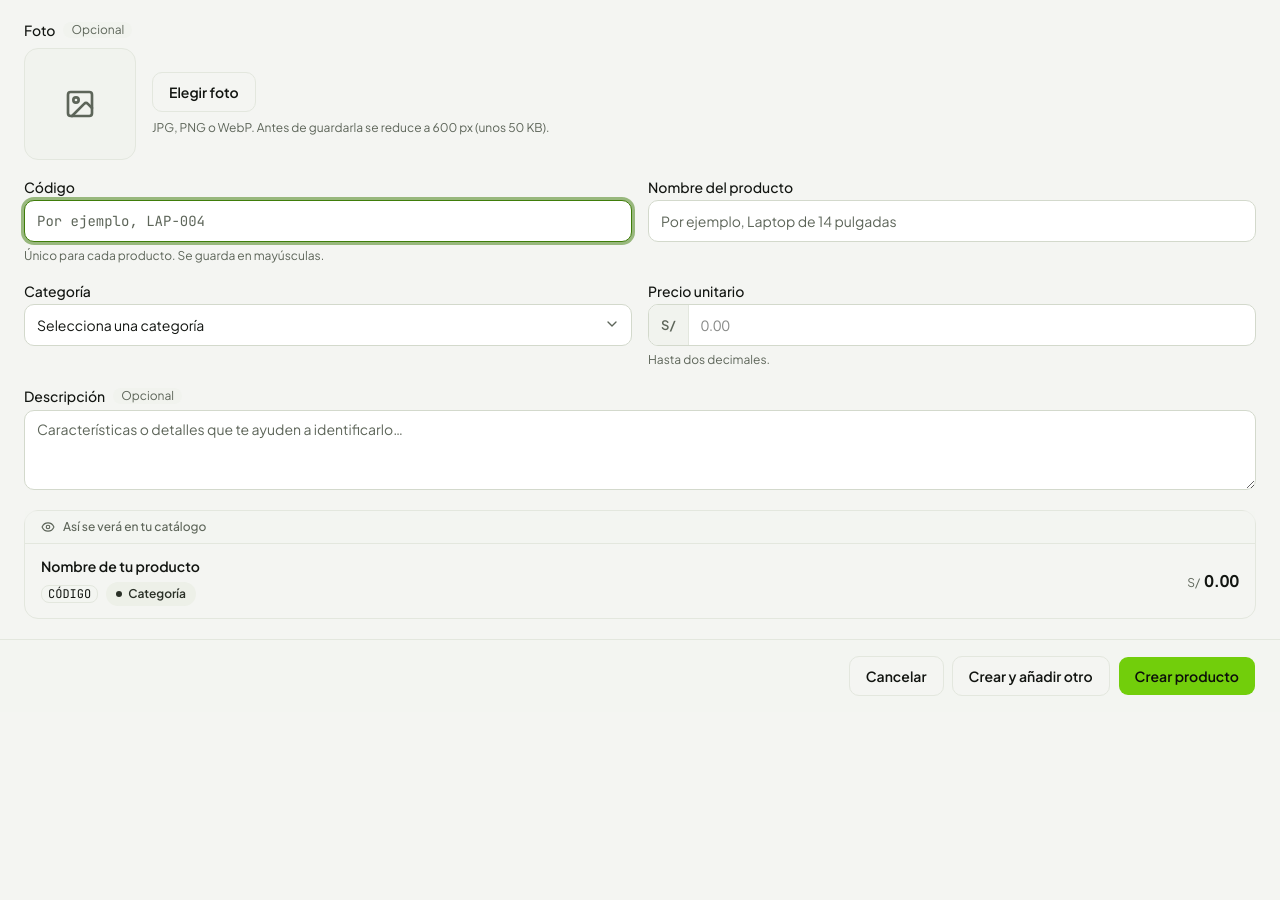
Test case: ProductForm › muestra un error del servidor sin perder el borrador
Type " lap-004 " into the field labelled "Código" at coordinates (328, 221), box [24,200,632,242]
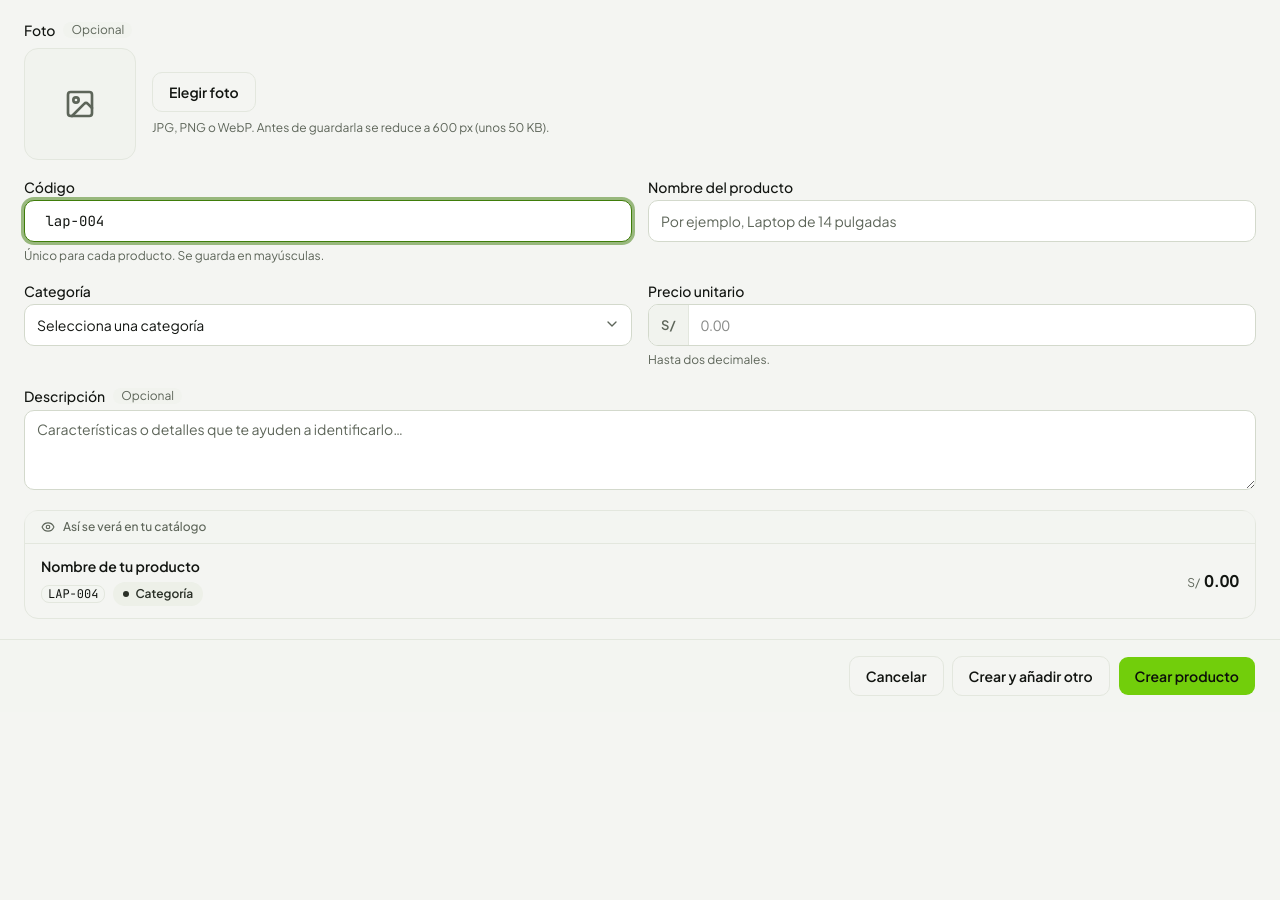
Type "Laptop de 13 pulgadas" into the field labelled "Nombre del producto" at coordinates (952, 221), box [648,200,1256,242]
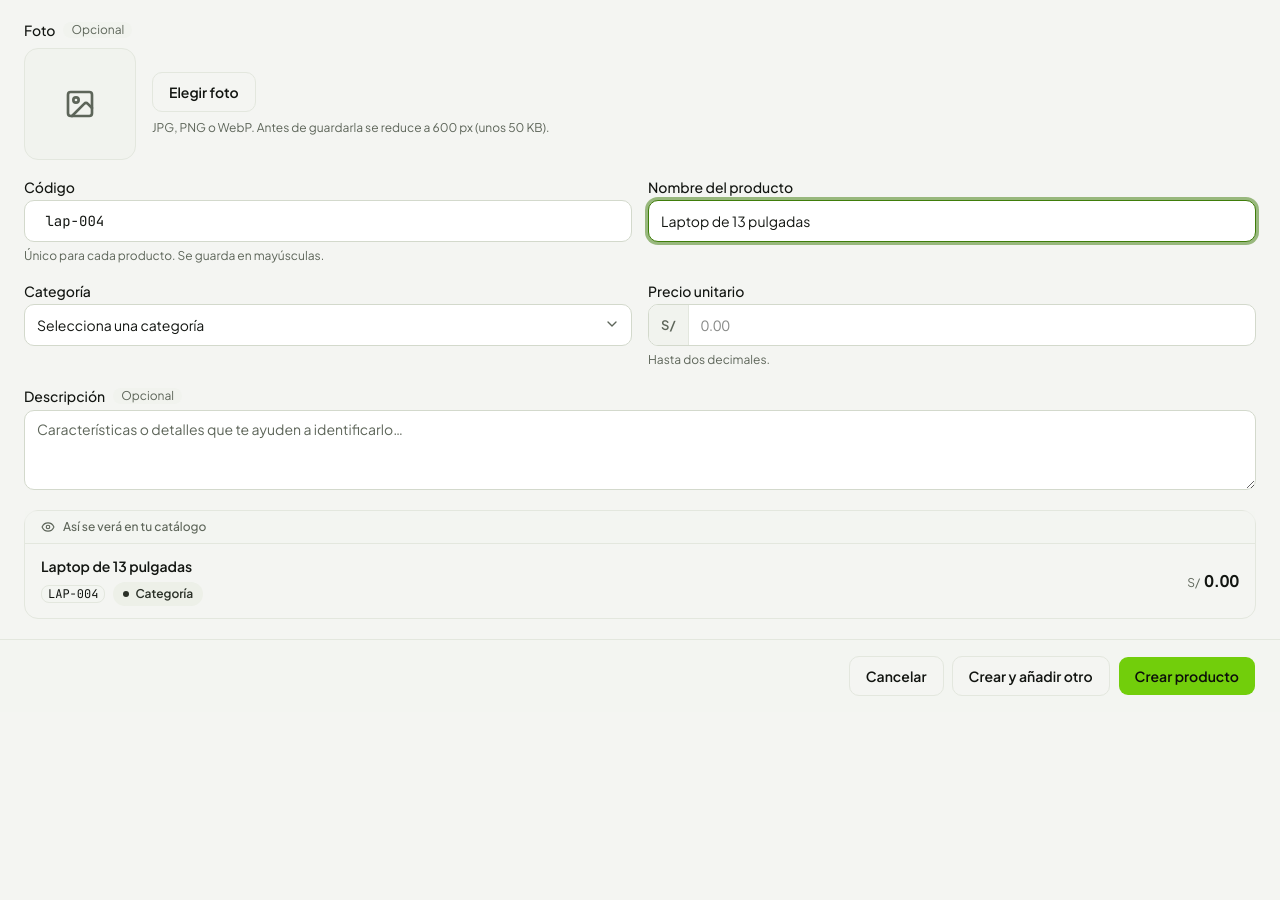
Select "Laptops" in the dropdown labelled "Categoría" at coordinates (328, 325), box [24,304,632,346]
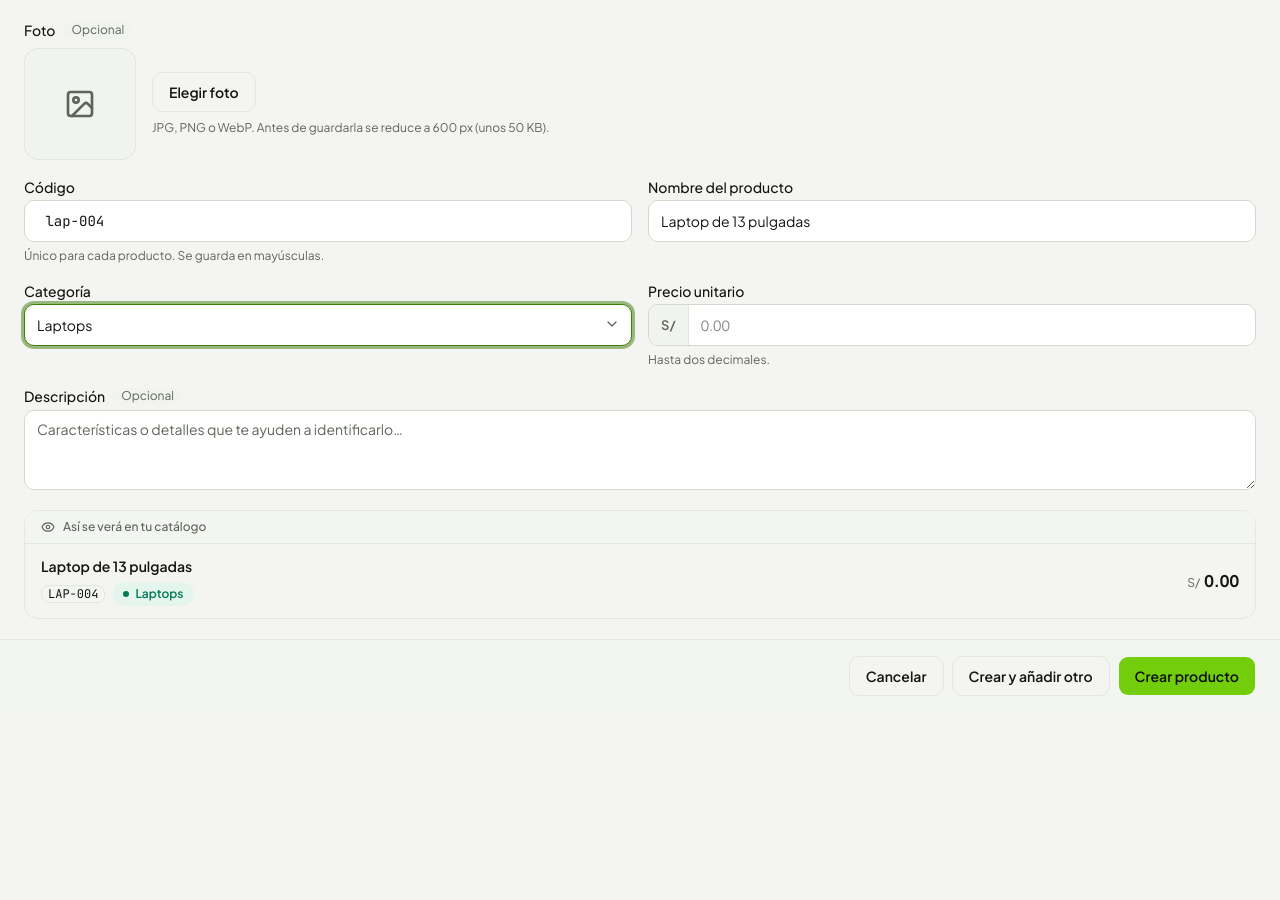
Type "1299,5" into the field labelled "Precio unitario" at coordinates (972, 325), box [689,305,1255,345]
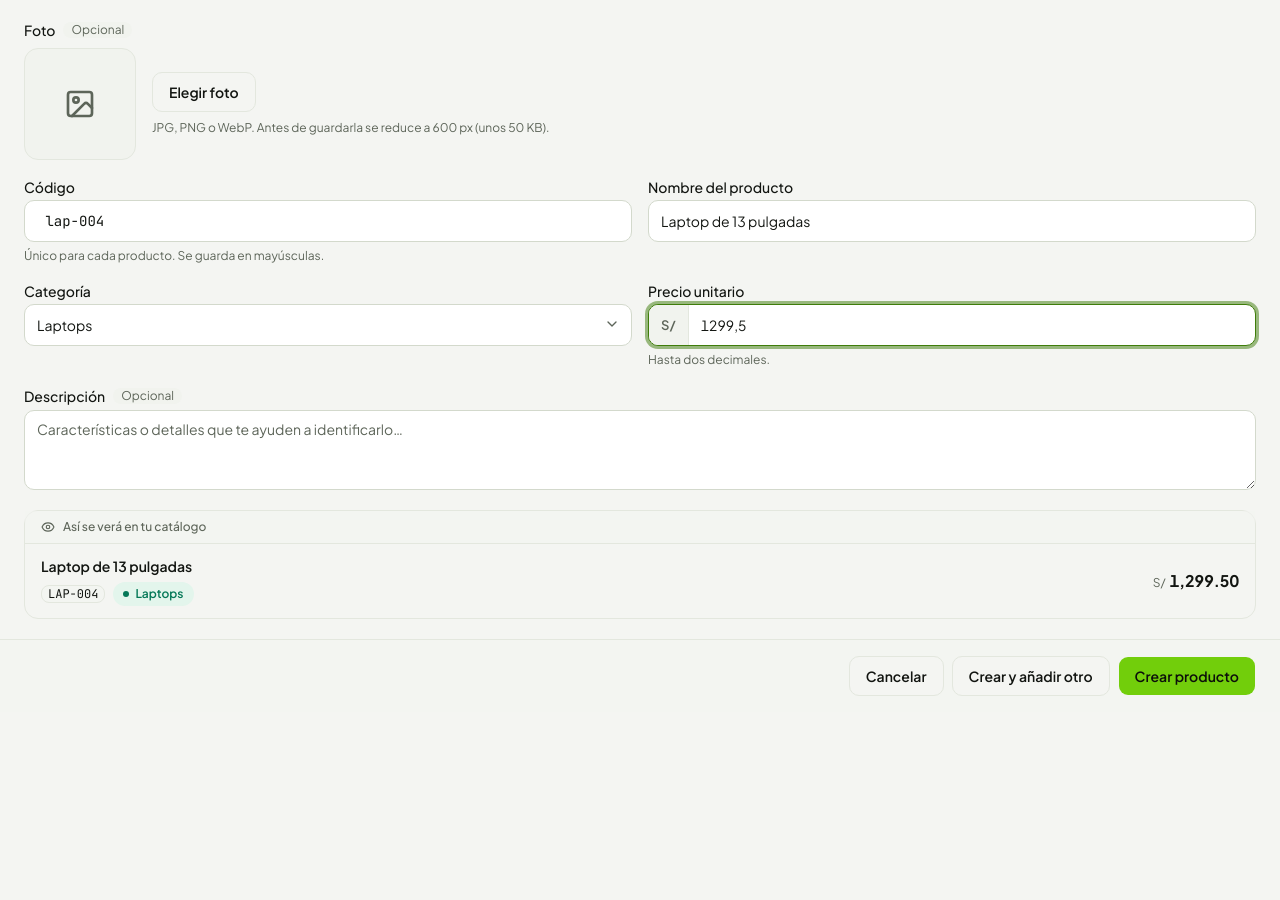
Click the button "Crear producto" at coordinates (1187, 676), box [1118,656,1256,696]
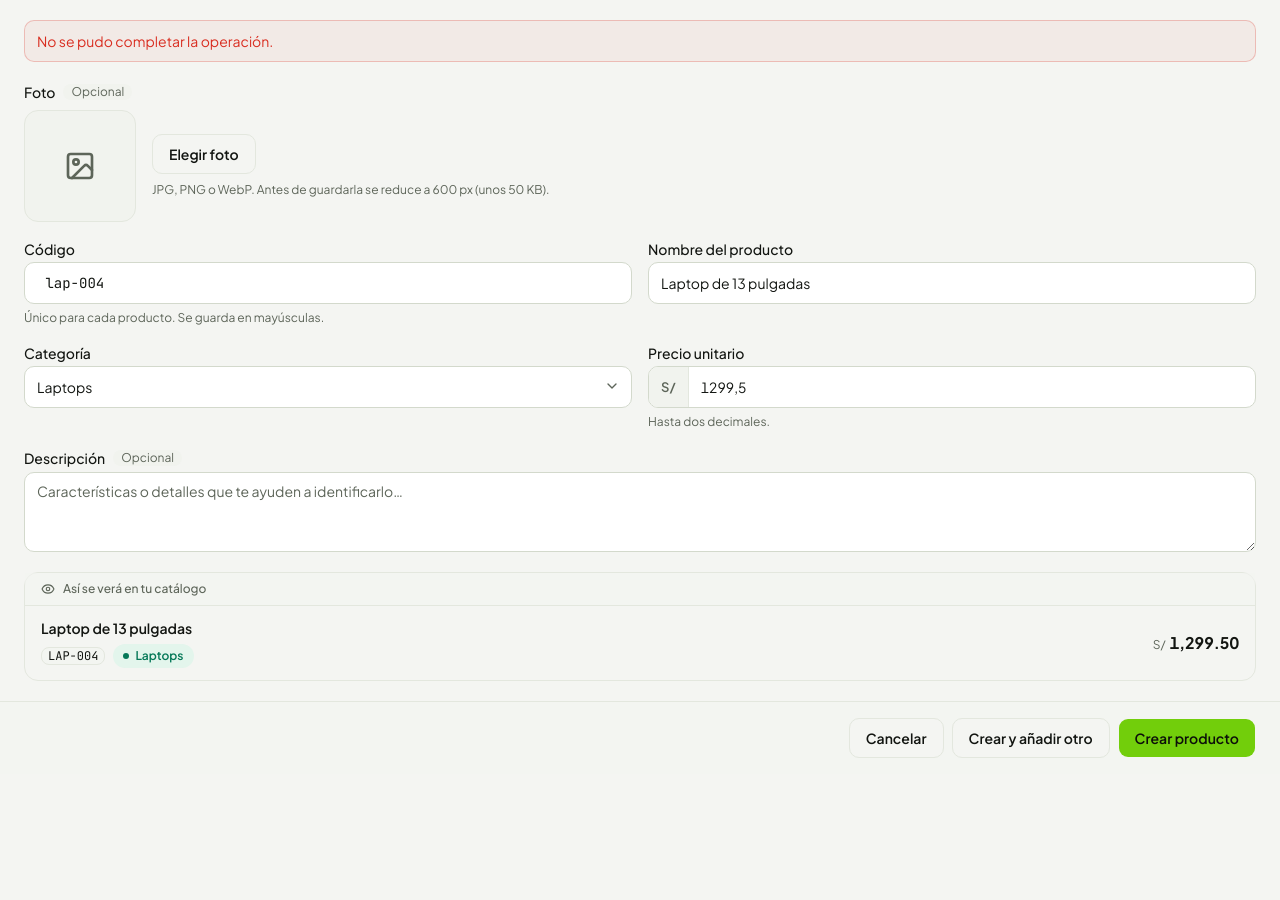
Check: the message reads "No se pudo completar la operación.", box [37,32,273,50]
